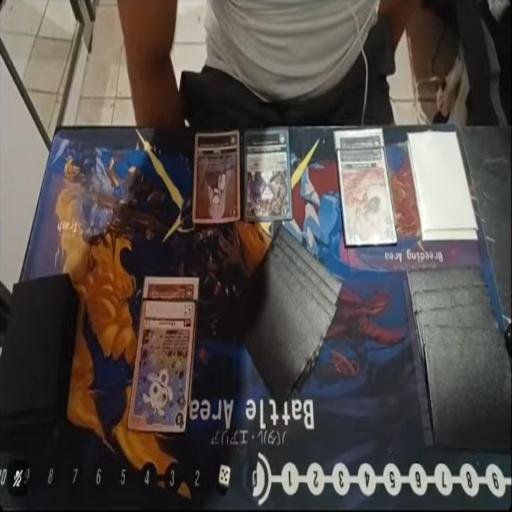card: (127, 300, 195, 434), (339, 147, 394, 251), (190, 126, 238, 225), (244, 130, 293, 222), (142, 275, 203, 304), (334, 128, 384, 150)
